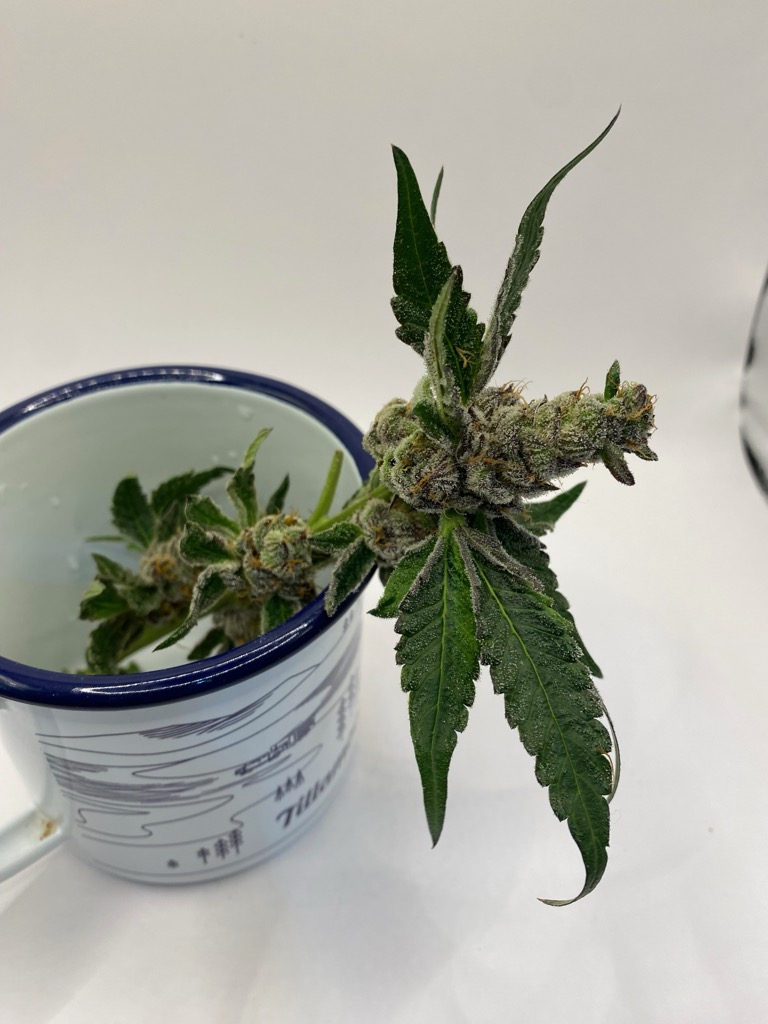Bud: (374, 382, 660, 511), (206, 497, 320, 616)
Leaf: (435, 518, 682, 917), (467, 98, 645, 382), (348, 116, 505, 385), (382, 518, 485, 846), (394, 273, 477, 398), (222, 408, 275, 519)
